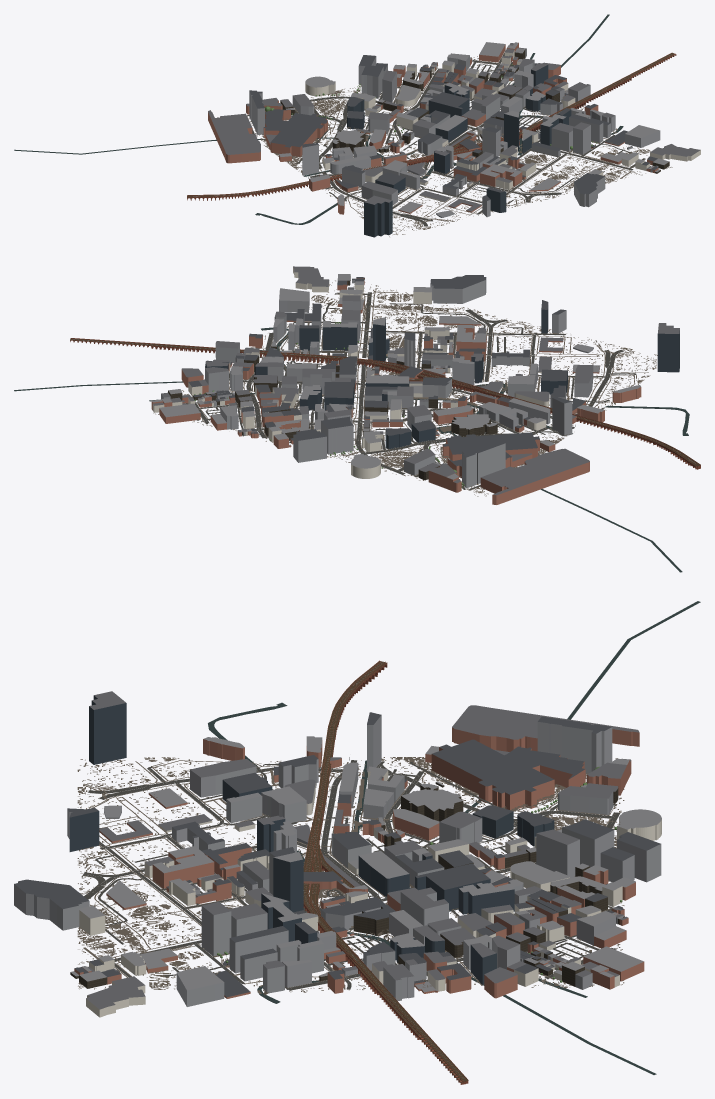
The model's file is sur_dec.glb.
The picture shows the model from 3 angles, top to bottom: view 1: azimuth 30°, elevation 25°; view 2: azimuth 150°, elevation 25°; view 3: azimuth 270°, elevation 25°; orthographic projection. The views are drawn at different scales.
Visible parts, largest first — view 1: Terrain_EA_DTM, bldg_23112318, bldg_27930260, bldg_682060630, bldg_136506119, bldg_738799442, bldg_378959095, bldg_151751118, bldg_26508327, bldg_990174132, bldg_27930204, bldg_705574569 (+22 smaller); view 2: Terrain_EA_DTM, bldg_27930260, bldg_23112318, bldg_27930204, bldg_136506119, bldg_682060630, bldg_378959095, bldg_796971147, bldg_387033351, bldg_165386099, bldg_647033648, bldg_26508327 (+19 smaller); view 3: Terrain_EA_DTM, bldg_23112318, bldg_27930260, bldg_27930204, bldg_136506119, bldg_682060630, bldg_738799442, bldg_639819668, bldg_151751118, bldg_705574569, bldg_165386099, bldg_26508327 (+41 smaller).
Part boxes in pixels (bbox=[...]): Terrain_EA_DTM: bbox=[247, 54, 672, 236]; bldg_23112318: bbox=[263, 109, 327, 156]; bldg_27930260: bbox=[208, 110, 260, 163]; bldg_682060630: bbox=[364, 195, 392, 237]; bldg_136506119: bbox=[574, 173, 605, 207]; bldg_738799442: bbox=[428, 92, 469, 117]; bldg_378959095: bbox=[361, 65, 383, 98]; bldg_151751118: bbox=[480, 164, 522, 186]; bldg_26508327: bbox=[650, 144, 700, 161]; bldg_990174132: bbox=[625, 125, 660, 147]; bldg_27930204: bbox=[249, 90, 264, 134]; bldg_705574569: bbox=[435, 115, 467, 142]; Terrain_EA_DTM: bbox=[153, 280, 657, 496]; bldg_27930260: bbox=[480, 448, 589, 504]; bldg_23112318: bbox=[442, 432, 539, 478]; bldg_27930204: bbox=[462, 440, 505, 488]; bldg_136506119: bbox=[430, 275, 486, 303]; bldg_682060630: bbox=[657, 323, 679, 372]; bldg_378959095: bbox=[321, 416, 353, 454]; bldg_796971147: bbox=[322, 321, 357, 350]; bldg_387033351: bbox=[293, 431, 326, 462]; bldg_165386099: bbox=[451, 414, 497, 436]; bldg_647033648: bbox=[552, 396, 572, 436]; bldg_26508327: bbox=[293, 266, 329, 292]; Terrain_EA_DTM: bbox=[77, 757, 624, 995]; bldg_23112318: bbox=[431, 739, 585, 810]; bldg_27930260: bbox=[452, 705, 639, 751]; bldg_27930204: bbox=[537, 716, 612, 773]; bldg_136506119: bbox=[14, 879, 89, 930]; bldg_682060630: bbox=[89, 691, 126, 764]; bldg_738799442: bbox=[415, 863, 490, 911]; bldg_639819668: bbox=[536, 829, 579, 877]; bldg_151751118: bbox=[152, 846, 214, 888]; bldg_705574569: bbox=[358, 851, 409, 897]; bldg_165386099: bbox=[401, 784, 463, 821]; bldg_26508327: bbox=[86, 976, 145, 1017].
Bounding box in the file's own units: 1704 × 97.85 × 1015.
21 materials, 5 textured.
